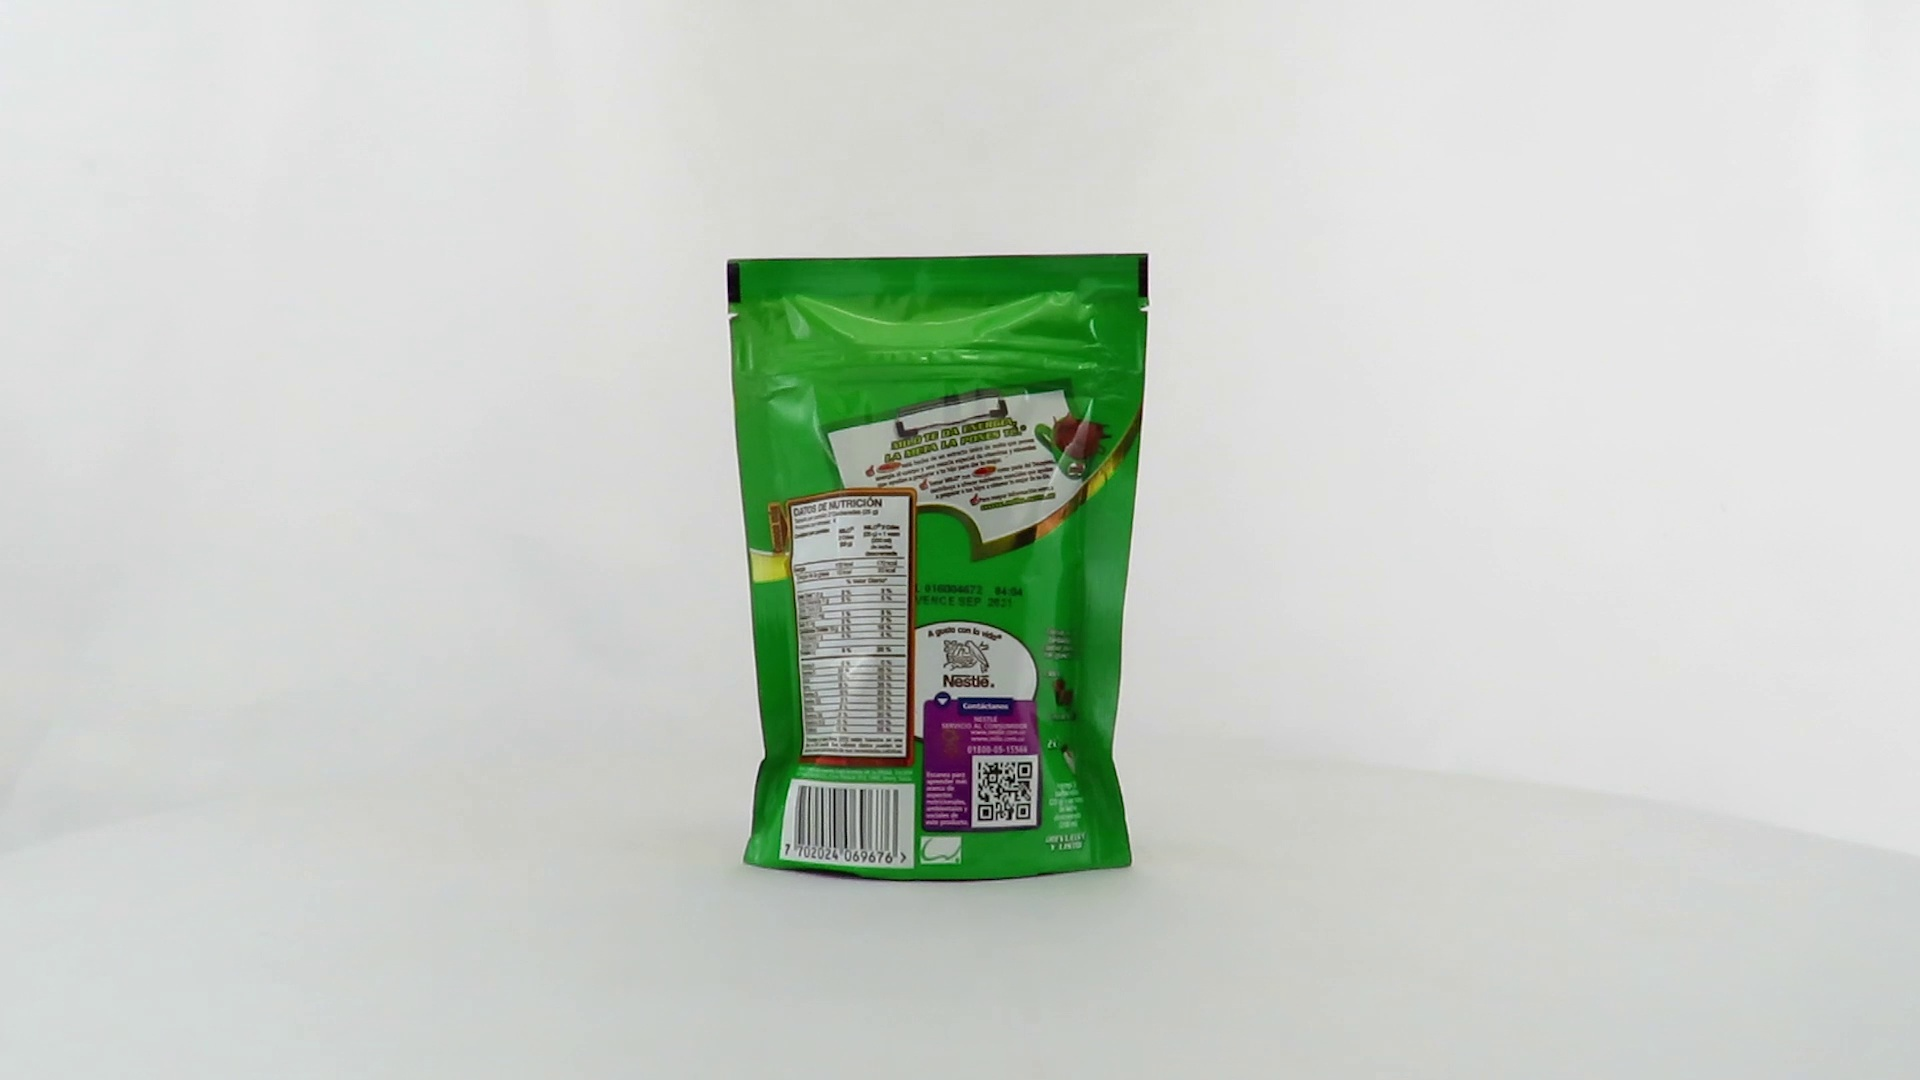COL0170203DYP10000: (723, 248, 1156, 889)
